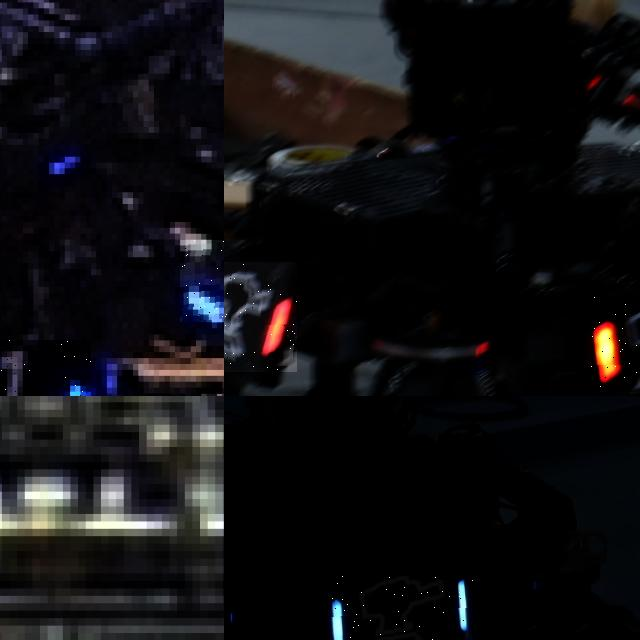B1: (0, 340, 91, 396), (180, 239, 224, 322)
Bs: (327, 576, 473, 640)
Rs: (224, 262, 297, 372), (591, 296, 640, 392)
